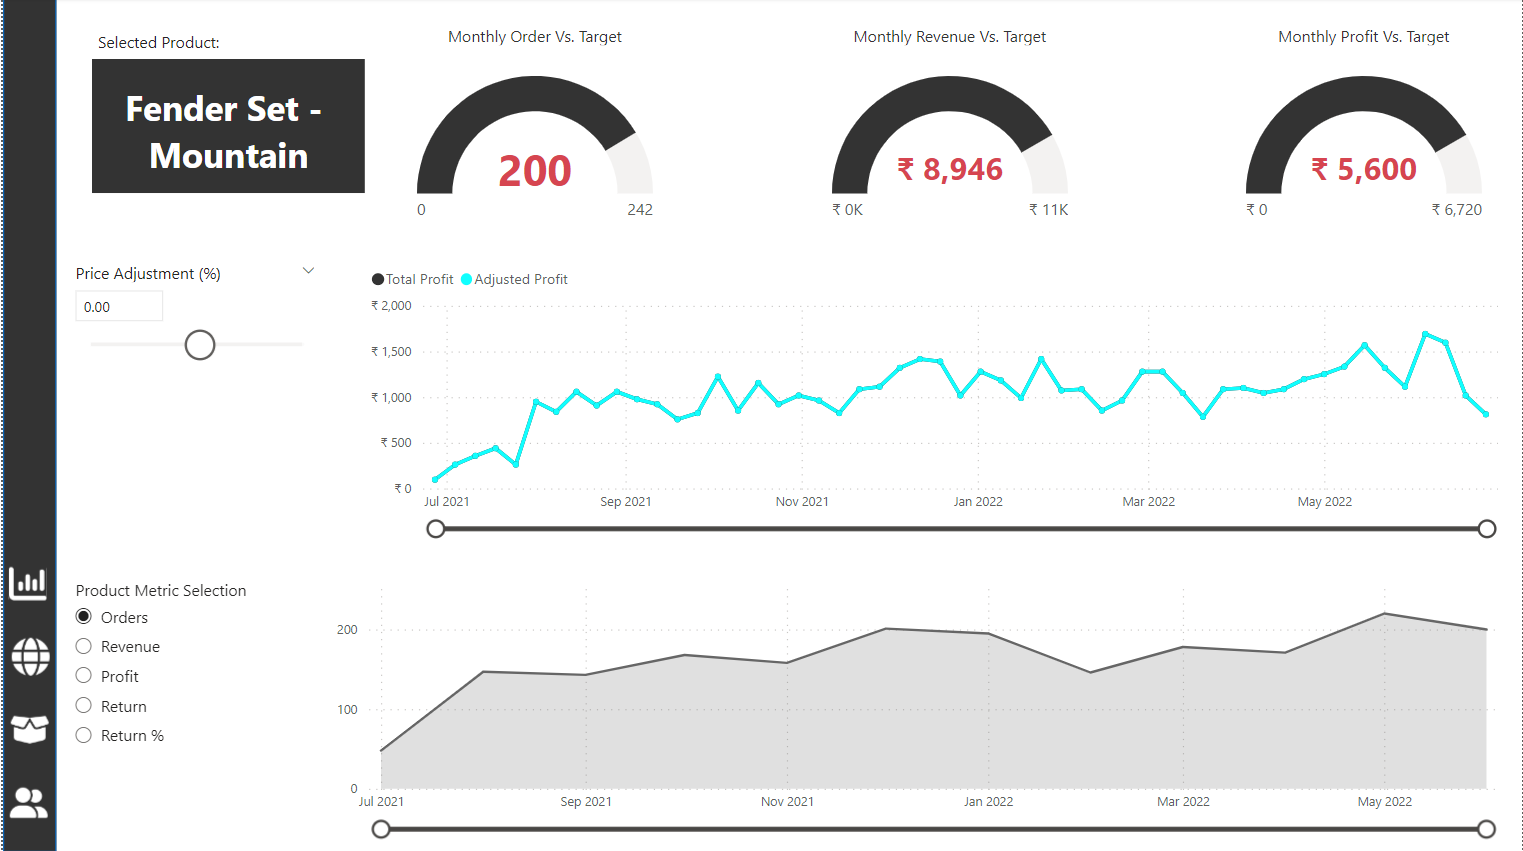

The dashboard page shown, as its layout file describes it:
{"tool":"powerbi","page":{"name":"Product Detail","canvas":[1280,720],"ordinal":2},"visuals":[{"type":"shape","box":[0,0,44.8,720],"z":0},{"type":"actionButton","box":[2.8,596.4,44.8,40.3],"z":0,"group":"g1"},{"type":"gauge","title":"Monthly Order Vs. Target","fields":{"Y":["Measure Table.Total orders"],"MaxValue":["Measure Table.Order Target"]},"box":[343.9,22.4,208.7,195.2],"z":1000},{"type":"actionButton","box":[1,473.7,44.8,40.3],"z":1000,"group":"g1"},{"type":"gauge","title":"Monthly Revenue Vs. Target","fields":{"Y":["Measure Table.Total Revenue"],"MaxValue":["Measure Table.Target Revenue"]},"box":[693.6,22.4,208.7,195.2],"z":2000},{"type":"actionButton","box":[1.9,658.2,44.8,40.3],"z":2000,"group":"g1"},{"type":"gauge","title":"Monthly Profit Vs. Target","fields":{"Y":["Measure Table.Total Profit"],"MaxValue":["Measure Table.Profit Target"]},"box":[1043.3,22.4,208.7,195.2],"z":3000},{"type":"actionButton","box":[3.7,535.5,44.8,40.3],"z":3000,"group":"g1"},{"type":"lineChart","title":"Profit Trending","fields":{"Category":["Calendar Lookup.Date Hierarchy.Start of Year","Calendar Lookup.Date Hierarchy.Start of Month","Calendar Lookup.Date Hierarchy.Start of Week","Calendar Lookup.Date Hierarchy.Date"],"Y":["Measure Table.Total Profit","Measure Table.Adjusted Profit"]},"box":[305.4,217.6,974.3,240.9],"z":4000},{"type":"areaChart","title":"Return Trending","fields":{"Y":["Measure Table.Total orders"],"Category":["Calendar Lookup.Date Hierarchy.Start of Year","Calendar Lookup.Date Hierarchy.Start of Month","Calendar Lookup.Date Hierarchy.Start of Week","Calendar Lookup.Date Hierarchy.Date"]},"box":[275.8,484.5,1003.9,226.6],"z":5000},{"type":"card","fields":{"Values":["Min(Product Lookup.ProductName)"]},"box":[75.2,51,230.1,112.8],"z":6000},{"type":"textbox","box":[75.2,22.4,133.4,28.7],"z":7000},{"type":"group","id":"g1","title":"Navigation","box":[1,473.7,47.5,224.8],"z":8000},{"type":"slicer","fields":{"Values":["Price Adjustment (%).Price Adjustment (%)"]},"box":[48.4,217.6,227.5,240.9],"z":9000},{"type":"slicer","fields":{"Values":["Product Metric Selection.Product Metric Selection"]},"box":[48.4,484.5,227.5,226.6],"z":10000}]}

Visuals, with their boxes on the page's 1280x720 design canvas (x1, y1, x2, y2). These are canvas units, not pixel positions in the 1523x851 screenshot, which may show the page scaled, cropped or inside an application window:
shape: 0 0 45 720
actionButton: 3 596 48 637
"Monthly Order Vs. Target" gauge: 344 22 553 218
actionButton: 1 474 46 514
"Monthly Revenue Vs. Target" gauge: 694 22 902 218
actionButton: 2 658 47 698
"Monthly Profit Vs. Target" gauge: 1043 22 1252 218
actionButton: 4 536 48 576
"Profit Trending" lineChart: 305 218 1280 458
"Return Trending" areaChart: 276 484 1280 711
card - Min(Product Lookup.ProductName): 75 51 305 164
textbox: 75 22 209 51
"Navigation" group: 1 474 48 698
slicer - Price Adjustment (%).Price Adjustment (%): 48 218 276 458
slicer - Product Metric Selection.Product Metric Selection: 48 484 276 711
